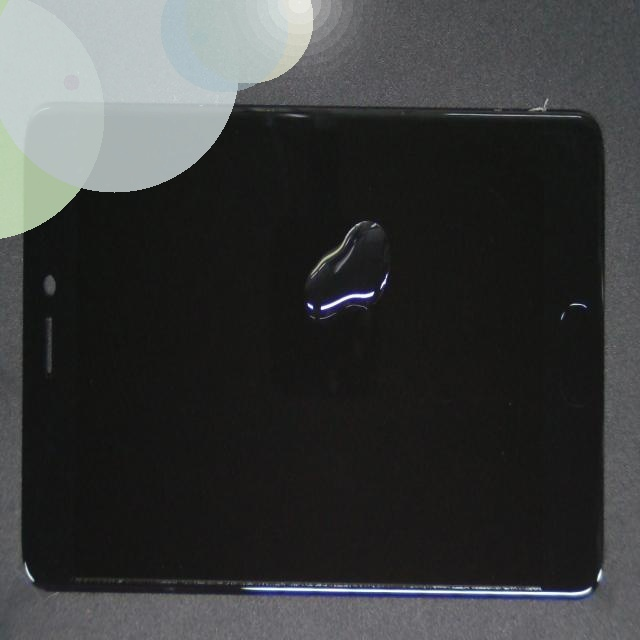oil: (187, 182, 582, 423)
